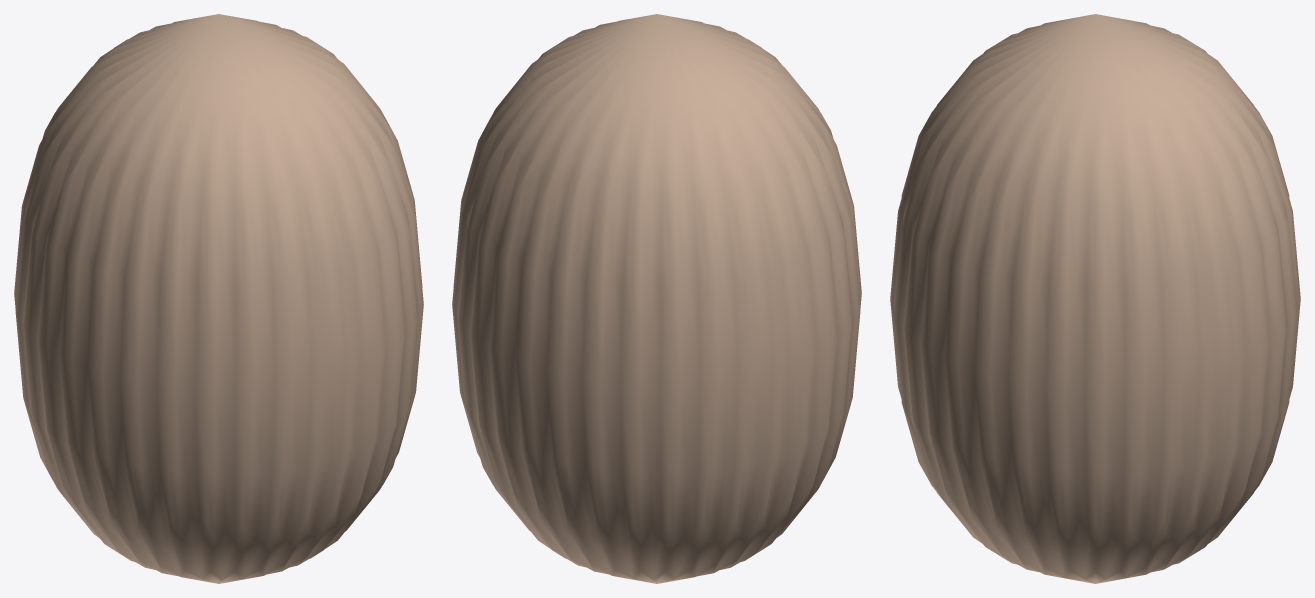
File: outfit_cardigan.glb
3 views of the same model, side by side, from view 1: azimuth 30°, elevation 25°; view 2: azimuth 150°, elevation 25°; view 3: azimuth 270°, elevation 25° (orthographic).
Visible parts, largest first — view 1: Cylinder; view 2: Cylinder; view 3: Cylinder.
Boxes of the visible parts, bbox=[...] form: Cylinder: bbox=[14, 14, 423, 583]; Cylinder: bbox=[452, 14, 861, 583]; Cylinder: bbox=[890, 14, 1300, 583].
Bounding box in the file's own units: 0.4517 × 0.6919 × 0.4517.
